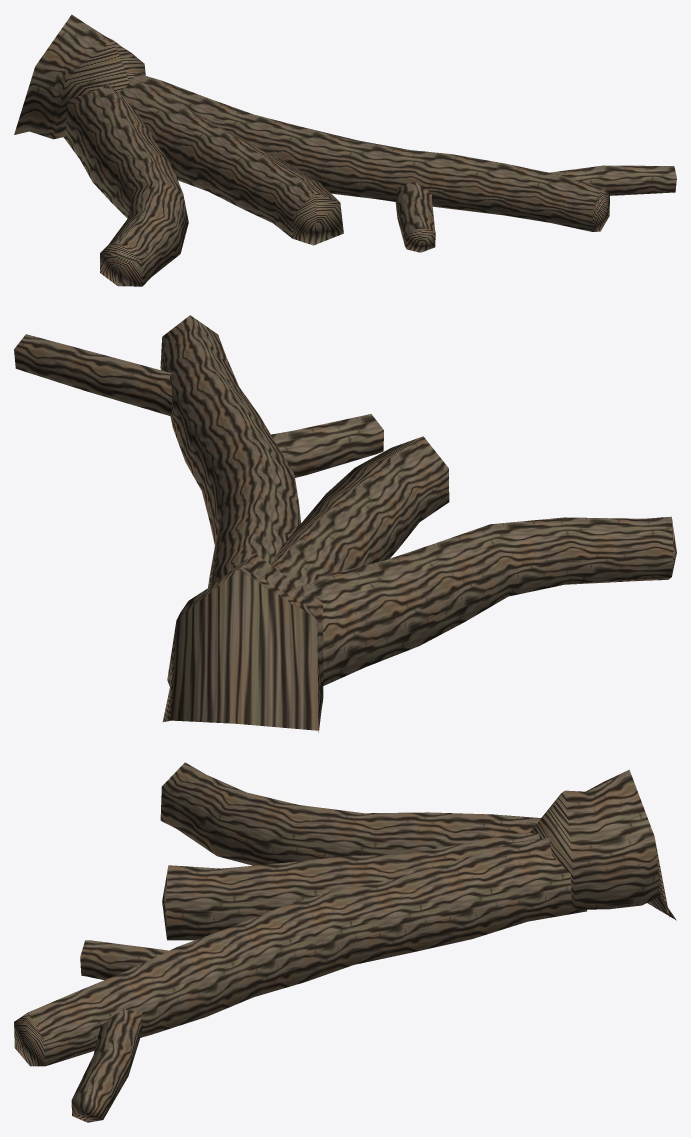
The model's file is fallen-a.lod1.glb.
The picture shows the model from 3 angles, top to bottom: view 1: azimuth 30°, elevation 25°; view 2: azimuth 150°, elevation 25°; view 3: azimuth 270°, elevation 25°; orthographic projection. The views are drawn at different scales.
Parts seen in each view (by area): view 1: bark; view 2: bark; view 3: bark.
Boxes of the visible parts, <box> form: bark: <box>14,14,676,286</box>; bark: <box>14,315,676,732</box>; bark: <box>14,762,676,1122</box>.
Size of the model in its own units: 4.67 by 0.8974 by 4.17.
Materials: 1 (1 with a texture image).
